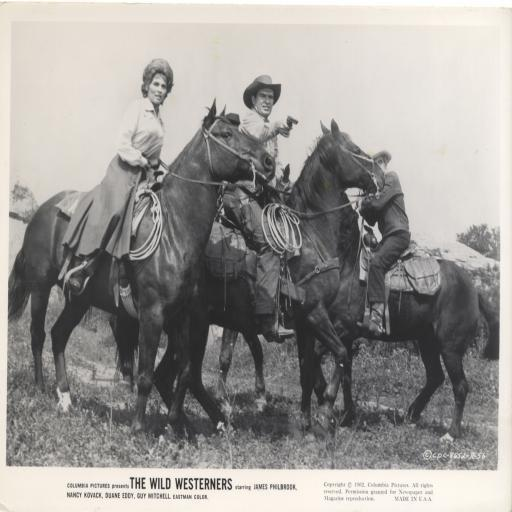horse: (5, 96, 275, 458), (106, 118, 388, 452), (266, 159, 498, 457)
